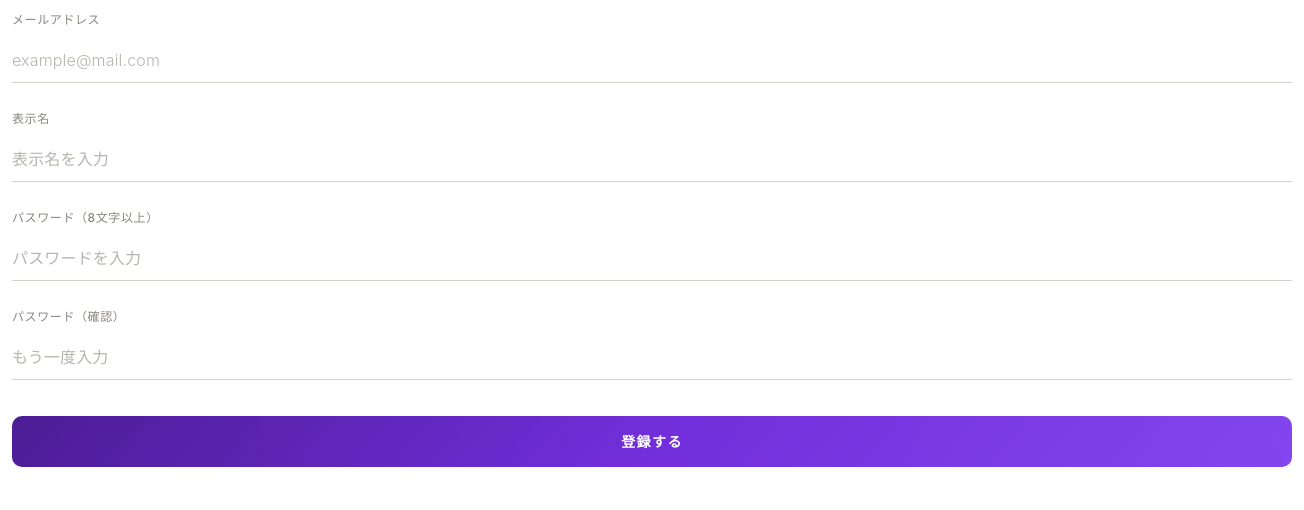
Test case: InitialSetupForm › 確認欄がパスワードと一致しなければ送信せず、欄の傍に理由を出す
Type "admin@kizuna.test" into the field labelled "メールアドレス". click: (652, 58)
box: [12, 34, 1292, 83]
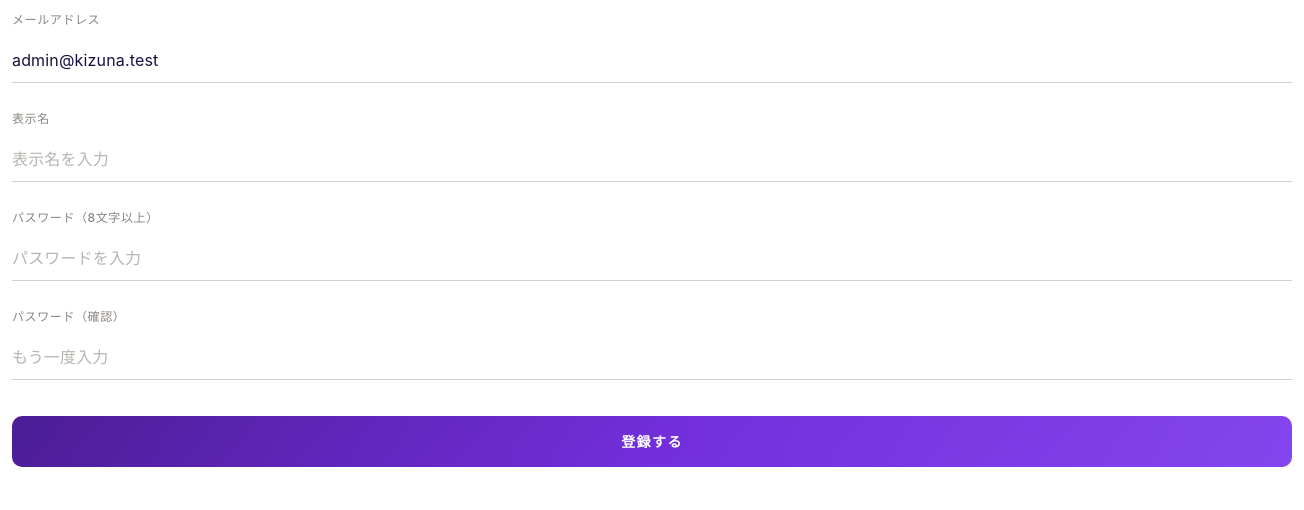
Type "管理者" into the field labelled "表示名". click: (652, 158)
box: [12, 133, 1292, 182]
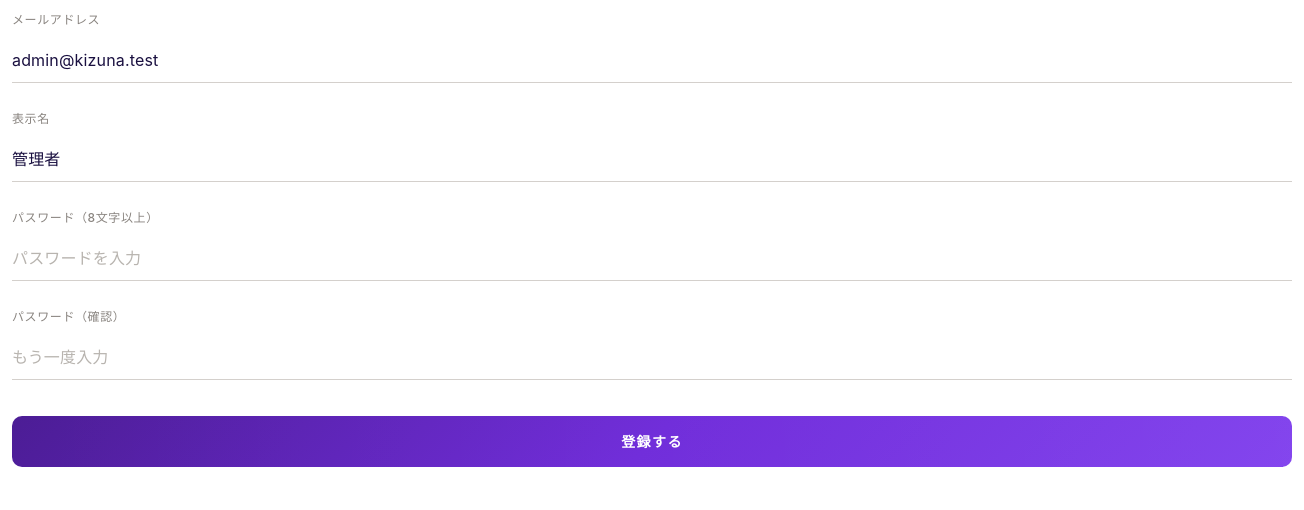
Type "password1234" into the password field labelled "パスワード（8文字以上）". click: (652, 256)
box: [12, 232, 1292, 281]
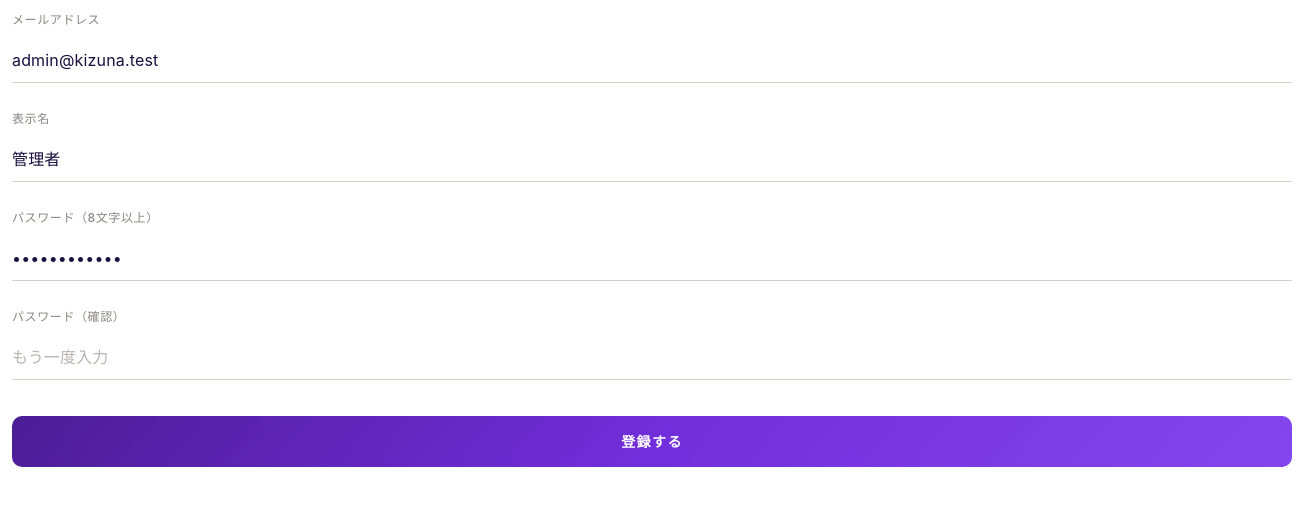
Type "password9999" into the password field labelled "パスワード（確認）". click: (652, 356)
box: [12, 331, 1292, 380]
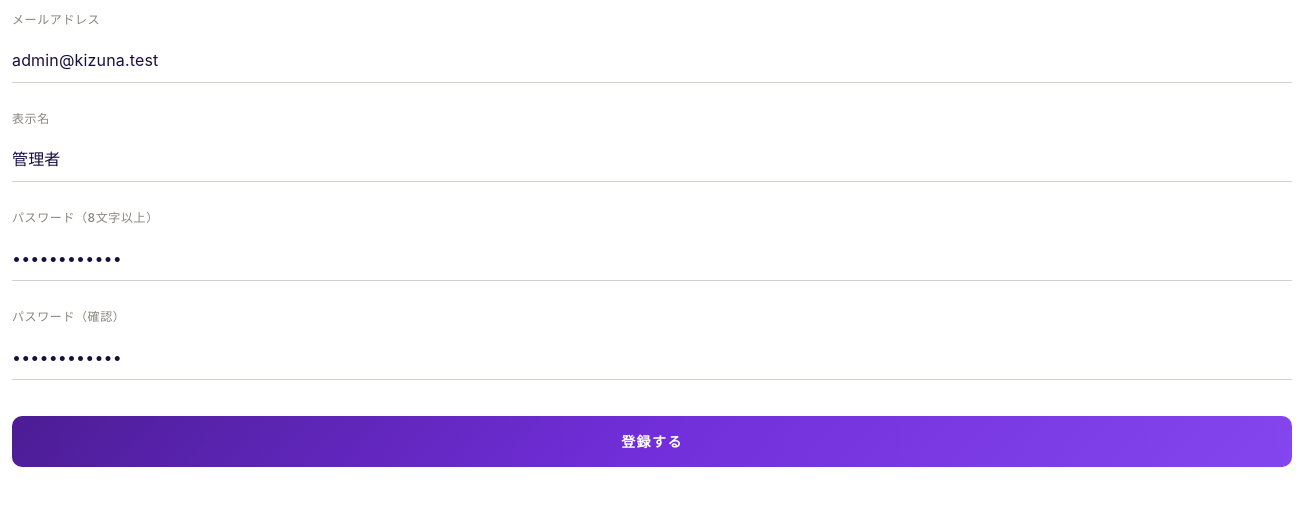
Click the button "登録する". click: (652, 442)
box: [12, 416, 1292, 467]
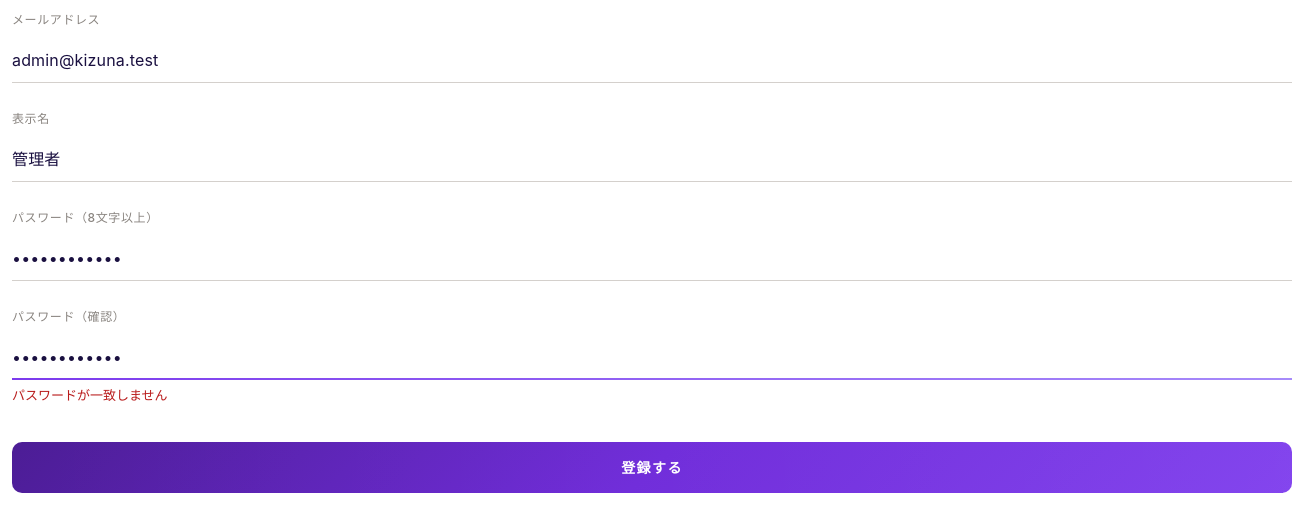
Check: the text "パスワードが一致しません" is shown, box [12, 387, 168, 403]
